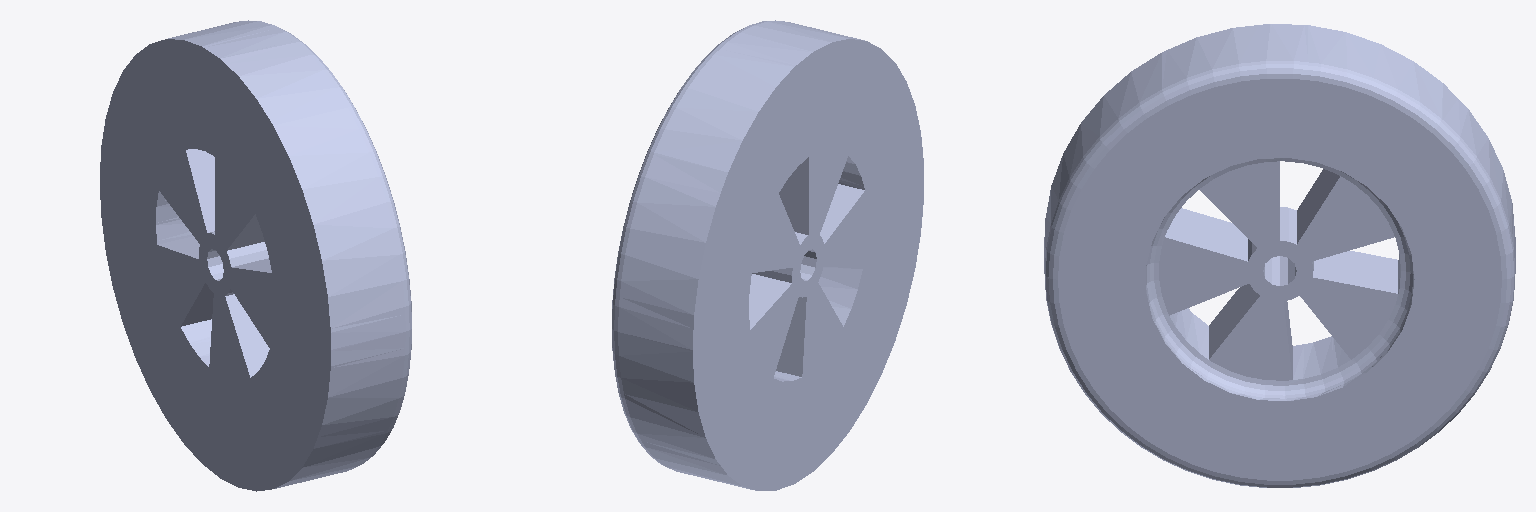
URDF robot description (urdf7):
<?xml version="1.0" encoding="utf-8"?>
<!-- This URDF was automatically created by SolidWorks to URDF Exporter! Originally created by [author] ([email redacted]) 
     Commit Version: 1.6.0-1-g15f4949  Build Version: 1.6.7594.29634
     For more information, please see http://wiki.ros.org/sw_urdf_exporter -->
<robot
  name="urdf7">
  <link
    name="base_link">
    <inertial>
      <origin
        xyz="-4.3066E-06 0.022153 0.0099126"
        rpy="0 0 0" />
      <mass
        value="0.73416" />
      <inertia
        ixx="0.003514"
        ixy="-1.1077E-07"
        ixz="2.7133E-08"
        iyy="0.0018578"
        iyz="4.714E-06"
        izz="0.0053231" />
    </inertial>
    <visual>
      <origin
        xyz="0 0 0"
        rpy="0 0 0" />
      <geometry>
        <mesh
          filename="package://urdf7/meshes/base_link.STL" />
      </geometry>
      <material
        name="">
        <color
          rgba="0.79216 0.81961 0.93333 1" />
        <texture
          filename="package://urdf7/textures/Screenshot 2021-03-05 193636.jpg" />
      </material>
    </visual>
    <collision>
      <origin
        xyz="0 0 0"
        rpy="0 0 0" />
      <geometry>
        <mesh
          filename="package://urdf7/meshes/base_link.STL" />
      </geometry>
    </collision>
  </link>
  <link
    name="RF">
    <inertial>
      <origin
        xyz="0 5.20417042793042E-18 0.00717282965435008"
        rpy="0 0 0" />
      <mass
        value="0.0489436503728706" />
      <inertia
        ixx="1.76621848414269E-05"
        ixy="-7.20626144749457E-22"
        ixz="-3.12917098987337E-22"
        iyy="1.76621848414269E-05"
        iyz="1.61354226071341E-22"
        izz="3.36011356425037E-05" />
    </inertial>
    <visual>
      <origin
        xyz="0 0 0"
        rpy="0 0 0" />
      <geometry>
        <mesh
          filename="package://urdf7/meshes/RF.STL" />
      </geometry>
      <material
        name="">
        <color
          rgba="0.792156862745098 0.819607843137255 0.933333333333333 1" />
      </material>
    </visual>
    <collision>
      <origin
        xyz="0 0 0"
        rpy="0 0 0" />
      <geometry>
        <mesh
          filename="package://urdf7/meshes/RF.STL" />
      </geometry>
    </collision>
  </link>
  <joint
    name="RFJ"
    type="continuous">
    <origin
      xyz="0.075 0.05 0.01"
      rpy="-1.5707963267949 0 -1.5707963267949" />
    <parent
      link="base_link" />
    <child
      link="RF" />
    <axis
      xyz="0 0 1" />
  </joint>
  <link
    name="RB">
    <inertial>
      <origin
        xyz="-6.93889390390723E-18 3.46944695195361E-18 0.00717282965435007"
        rpy="0 0 0" />
      <mass
        value="0.0489436503728706" />
      <inertia
        ixx="1.7662184841427E-05"
        ixy="-8.83877623533073E-22"
        ixz="-4.58734324399321E-22"
        iyy="1.7662184841427E-05"
        iyz="9.22026199183391E-23"
        izz="3.36011356425037E-05" />
    </inertial>
    <visual>
      <origin
        xyz="0 0 0"
        rpy="0 0 0" />
      <geometry>
        <mesh
          filename="package://urdf7/meshes/RB.STL" />
      </geometry>
      <material
        name="">
        <color
          rgba="0.792156862745098 0.819607843137255 0.933333333333333 1" />
      </material>
    </visual>
    <collision>
      <origin
        xyz="0 0 0"
        rpy="0 0 0" />
      <geometry>
        <mesh
          filename="package://urdf7/meshes/RB.STL" />
      </geometry>
    </collision>
  </link>
  <joint
    name="RBJ"
    type="continuous">
    <origin
      xyz="0.075 -0.06 0.01"
      rpy="-1.5707963267949 0 -1.5707963267949" />
    <parent
      link="base_link" />
    <child
      link="RB" />
    <axis
      xyz="0 0 1" />
  </joint>
  <link
    name="LF">
    <inertial>
      <origin
        xyz="-6.93889390390723E-18 -6.93889390390723E-18 -0.00717282965435005"
        rpy="0 0 0" />
      <mass
        value="0.0489436503728706" />
      <inertia
        ixx="1.76621848414269E-05"
        ixy="0"
        ixz="4.38916369626579E-22"
        iyy="1.76621848414269E-05"
        iyz="3.14087045386031E-22"
        izz="3.36011356425037E-05" />
    </inertial>
    <visual>
      <origin
        xyz="0 0 0"
        rpy="0 0 0" />
      <geometry>
        <mesh
          filename="package://urdf7/meshes/LF.STL" />
      </geometry>
      <material
        name="">
        <color
          rgba="0.792156862745098 0.819607843137255 0.933333333333333 1" />
      </material>
    </visual>
    <collision>
      <origin
        xyz="0 0 0"
        rpy="0 0 0" />
      <geometry>
        <mesh
          filename="package://urdf7/meshes/LF.STL" />
      </geometry>
    </collision>
  </link>
  <joint
    name="LFJ"
    type="continuous">
    <origin
      xyz="-0.075 0.05 0.01"
      rpy="1.5707963267949 0.917718602617513 1.5707963267949" />
    <parent
      link="base_link" />
    <child
      link="LF" />
    <axis
      xyz="0 0 1" />
  </joint>
  <link
    name="LR">
    <inertial>
      <origin
        xyz="0 -6.93889390390723E-18 -0.00717282965435007"
        rpy="0 0 0" />
      <mass
        value="0.0489436503728706" />
      <inertia
        ixx="1.7662184841427E-05"
        ixy="2.5410988417629E-21"
        ixz="6.95275297569429E-22"
        iyy="1.7662184841427E-05"
        iyz="-2.45798679103785E-23"
        izz="3.36011356425037E-05" />
    </inertial>
    <visual>
      <origin
        xyz="0 0 0"
        rpy="0 0 0" />
      <geometry>
        <mesh
          filename="package://urdf7/meshes/LR.STL" />
      </geometry>
      <material
        name="">
        <color
          rgba="0.792156862745098 0.819607843137255 0.933333333333333 1" />
      </material>
    </visual>
    <collision>
      <origin
        xyz="0 0 0"
        rpy="0 0 0" />
      <geometry>
        <mesh
          filename="package://urdf7/meshes/LR.STL" />
      </geometry>
    </collision>
  </link>
  <joint
    name="LRJ"
    type="continuous">
    <origin
      xyz="-0.075 -0.06 0.01"
      rpy="1.5707963267949 -0.584056750958047 1.5707963267949" />
    <parent
      link="base_link" />
    <child
      link="LR" />
    <axis
      xyz="0 0 1" />
  </joint>
</robot>

--- Render facts (derived) ---
3 views of the same robot in one strip: view 1: azimuth 30°, elevation 25°; view 2: azimuth 150°, elevation 25°; view 3: azimuth 270°, elevation 25° (orthographic).
Model urdf7 with 5 links and 4 joints (4 continuous), rooted at base_link, posed all joints at 0.
Visible links, largest first — view 1: RB; view 2: RB; view 3: RB.
Link boxes in pixels (left/top/right/bottom): RB: left=100, top=20, right=411, bottom=491; RB: left=612, top=20, right=923, bottom=490; RB: left=1044, top=24, right=1515, bottom=487.
Bounding box of the posed robot: 0.015 × 0.07 × 0.0699 m (x, y, z).
1 mesh visuals loaded from 5 distinct referenced files (1 binary STL); not drawn: 4 (reference not matched to a file when rendering).